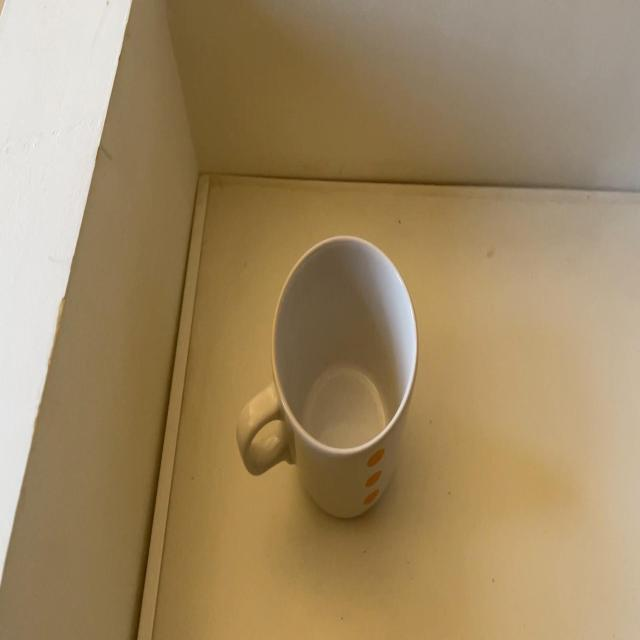cup: (239, 233, 418, 526)
